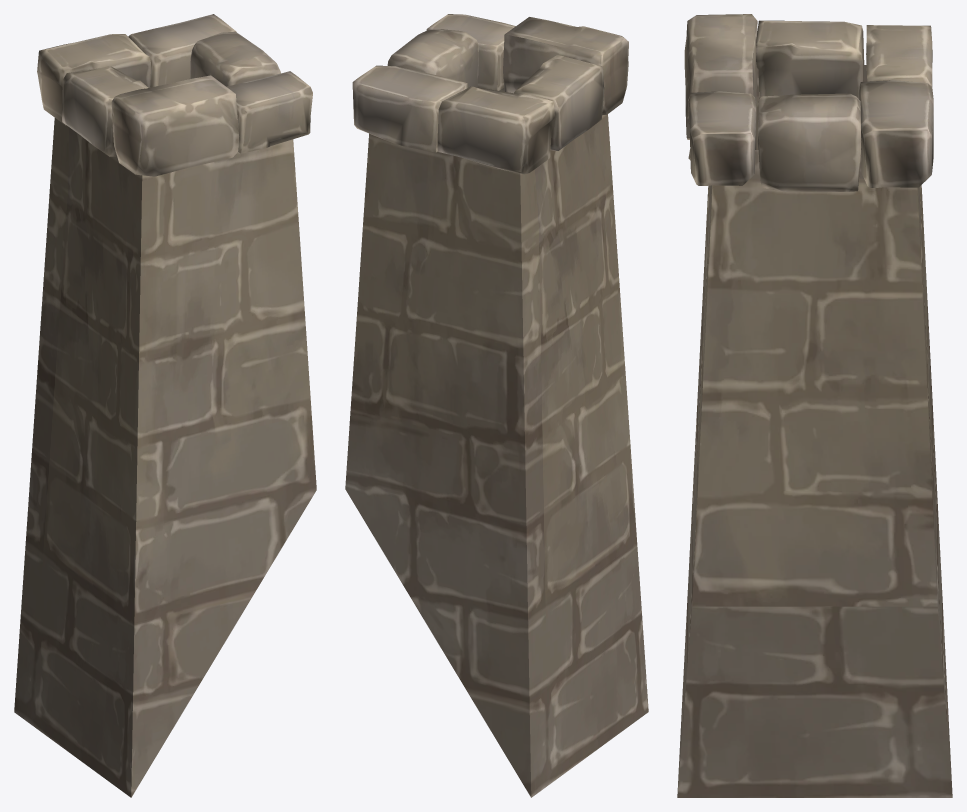
The model's file is Prop_Chimney.gltf.
3 renders of one model, left to right at view 1: azimuth 30°, elevation 25°; view 2: azimuth 150°, elevation 25°; view 3: azimuth 270°, elevation 25°, orthographic. The views are drawn at different scales.
Visible parts, largest first — view 1: Prop_Chimney; view 2: Prop_Chimney; view 3: Prop_Chimney.
Part boxes in pixels (x1,y1,x2,y2): Prop_Chimney: (14,14,316,797); Prop_Chimney: (345,14,648,797); Prop_Chimney: (677,14,952,797).
Bounding box in the file's own units: 0.9458 × 3.18 × 1.
Materials: 2 (2 with a texture image).
